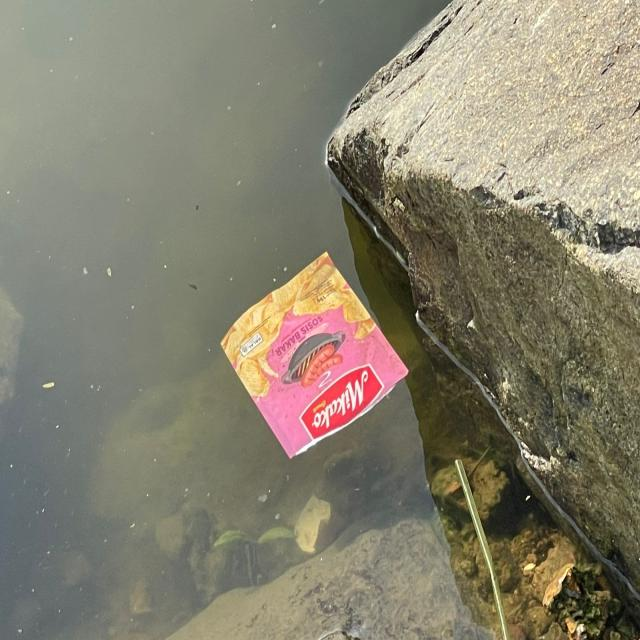Bungkus Makanan: (221, 249, 412, 464)
